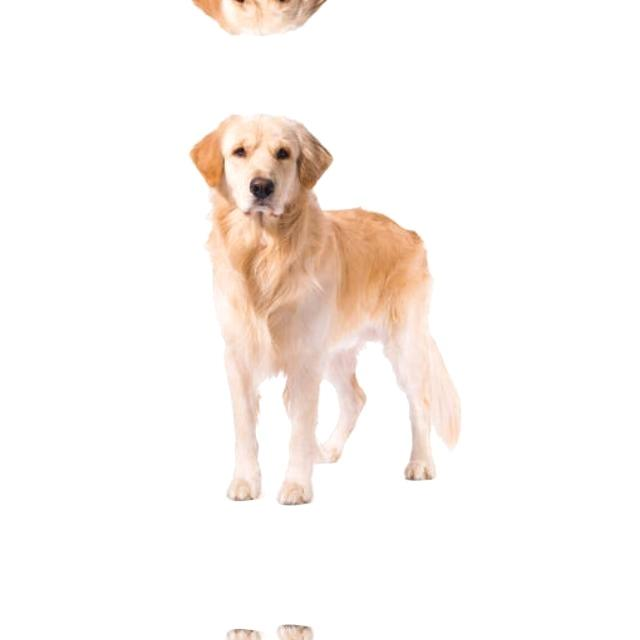dog: (185, 102, 479, 500), (185, 0, 479, 46), (185, 629, 479, 640)
